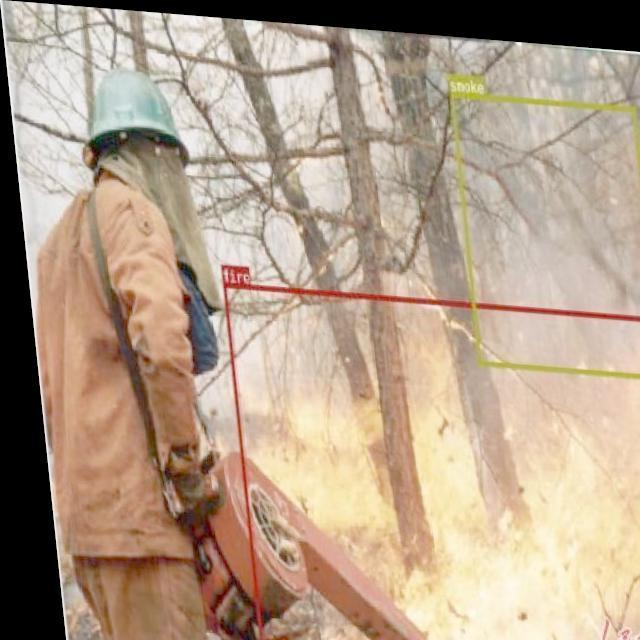Fire: (216, 307, 640, 640)
Smoke: (474, 55, 640, 352)
